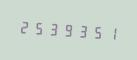five: (31, 17, 44, 38), (87, 21, 100, 42)
nine: (59, 19, 72, 40)
one: (101, 22, 114, 43)
three: (45, 18, 58, 39), (73, 20, 86, 41)
two: (17, 16, 30, 37)
